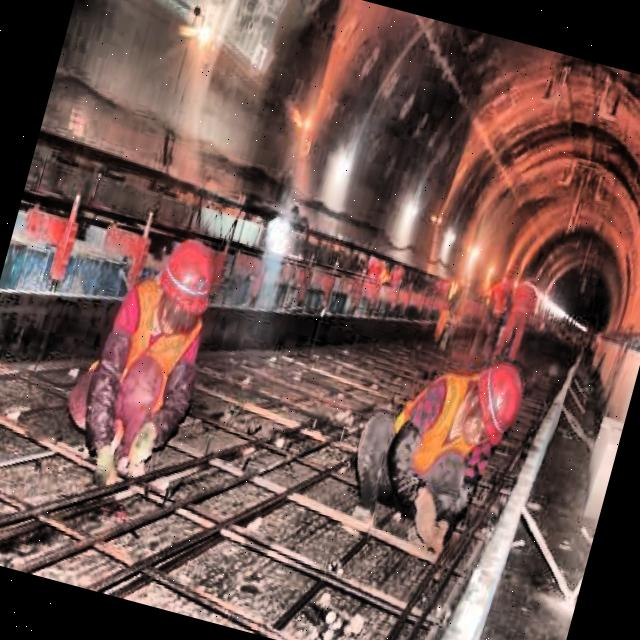helmet: (442, 343, 536, 472), (139, 226, 227, 354)
